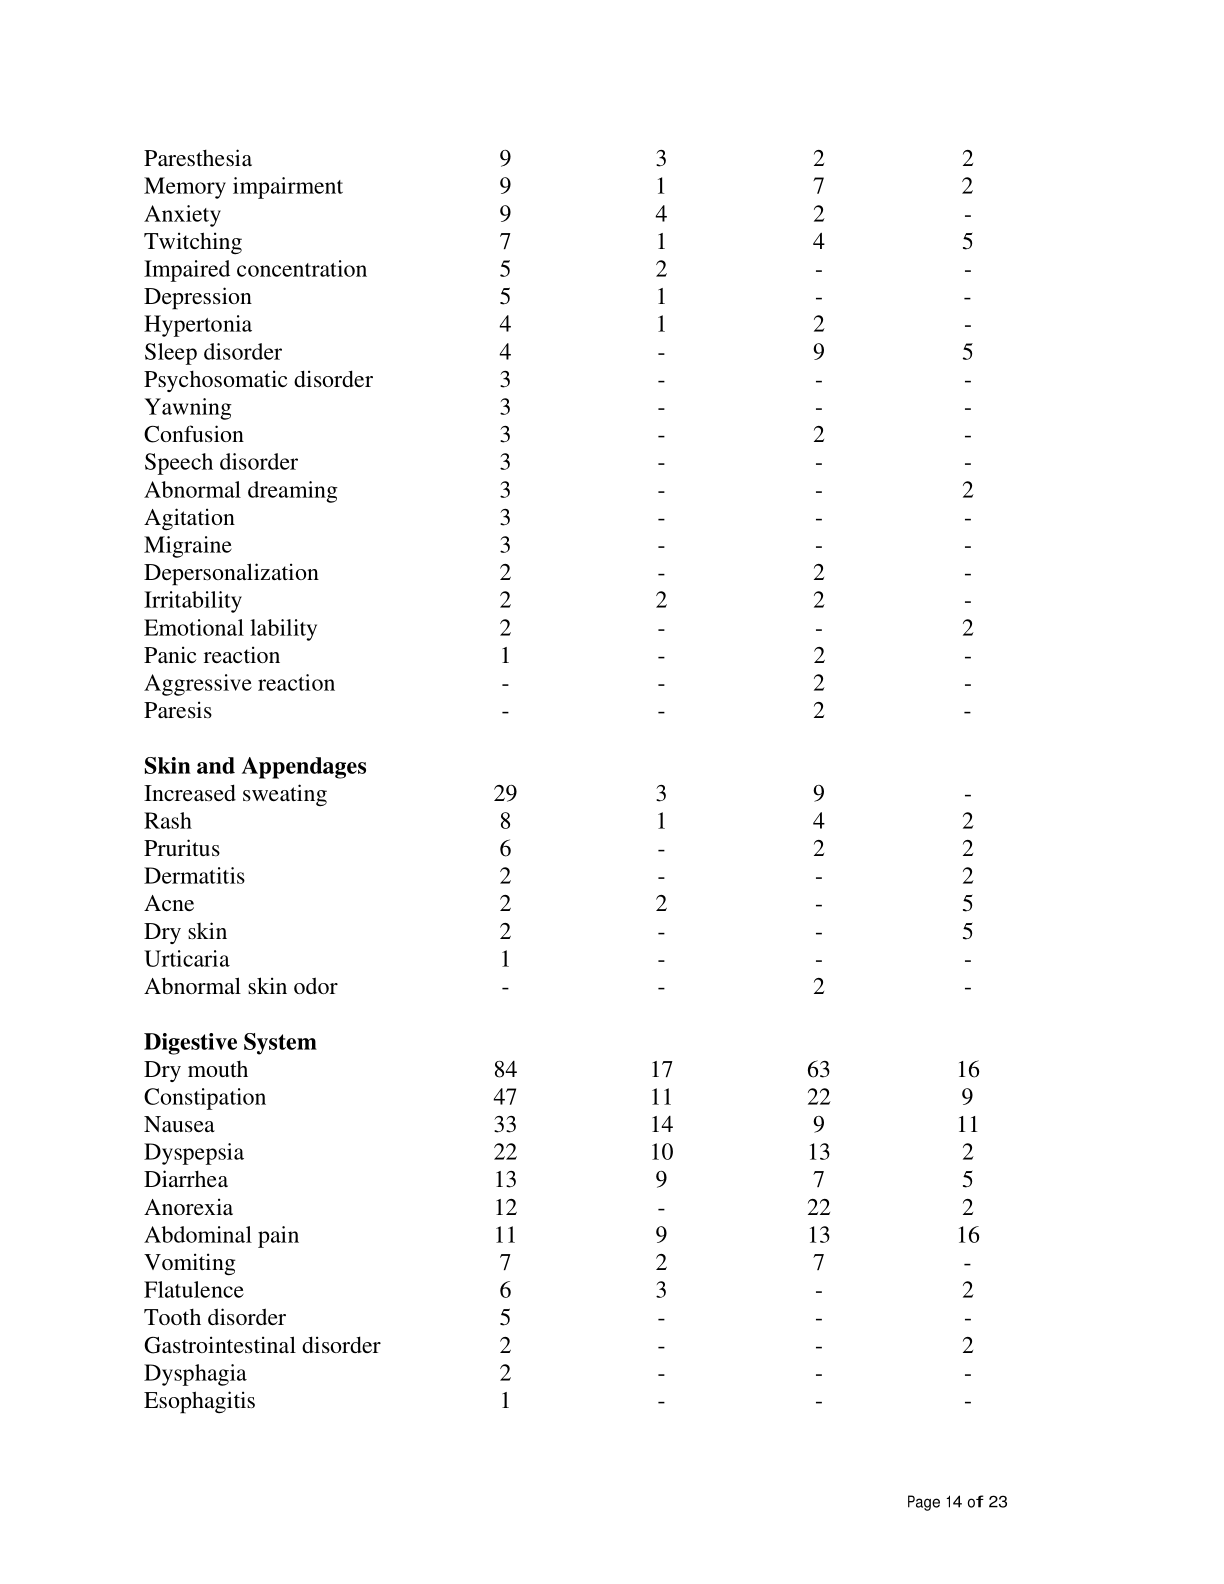nolines: (134, 141, 985, 1414)
